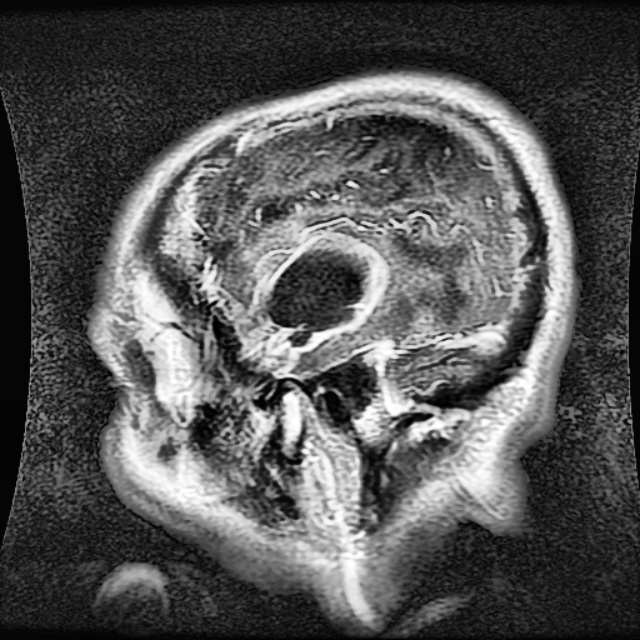Meningioma: (270, 232, 389, 347)
